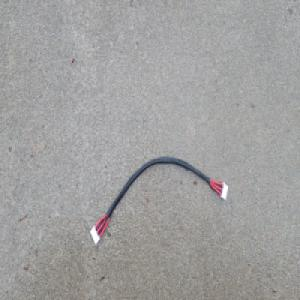Wire: (89, 155, 229, 246)
